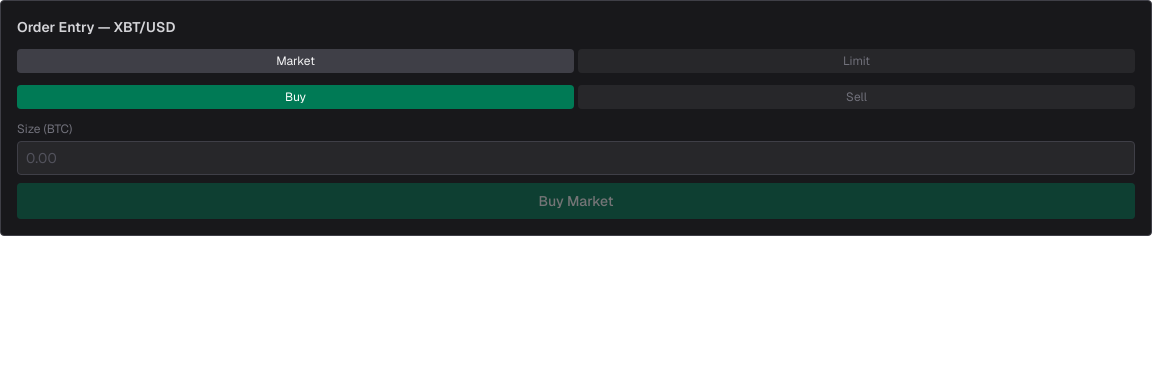
OrderEntry › market preview (slippage display) › shows slippage info when size is entered and book has data
Type "1" into the number field labelled "Size (BTC)" at (576, 158), box 17,141 -> 1135,175
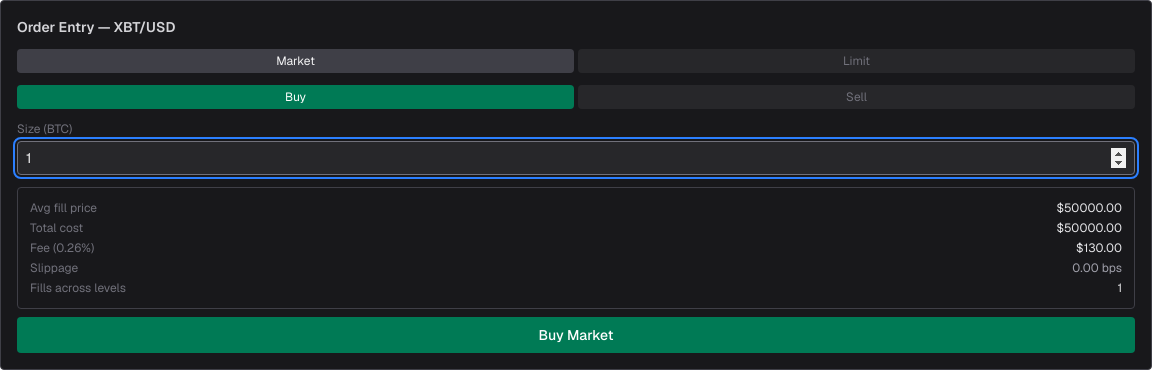
Result: the text "Slippage" is shown at 30,260 -> 78,276
Result: the text "Avg fill price" is shown at 30,200 -> 97,216
